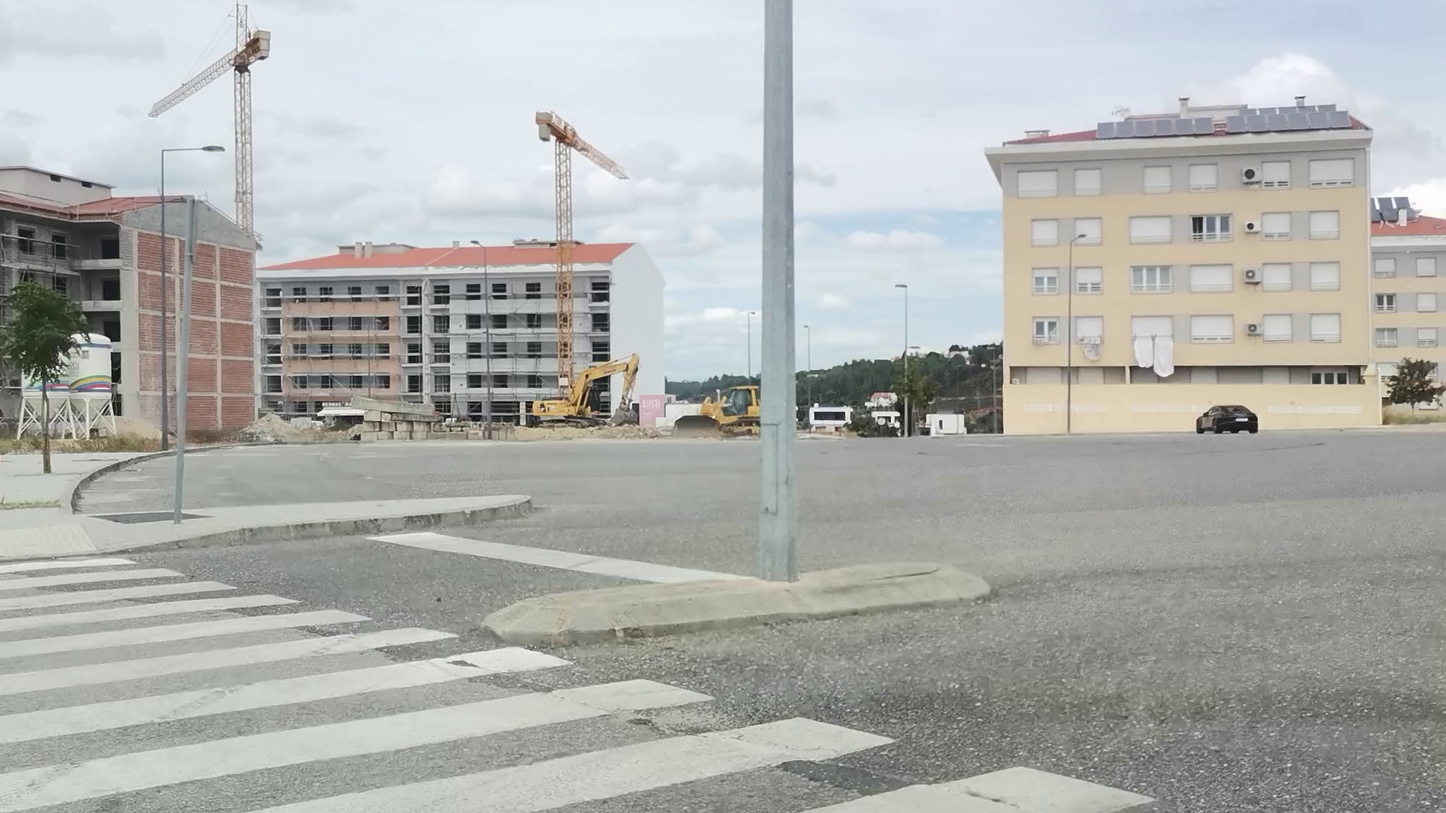Stairs: (0, 557, 1167, 812)
